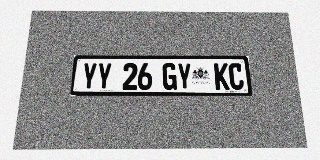2: (122, 63, 138, 90)
6: (138, 63, 152, 90)
C: (228, 63, 244, 90)
G: (162, 63, 177, 90)
K: (214, 63, 230, 90)
Y: (81, 63, 97, 90), (96, 63, 112, 90), (177, 63, 192, 90)
